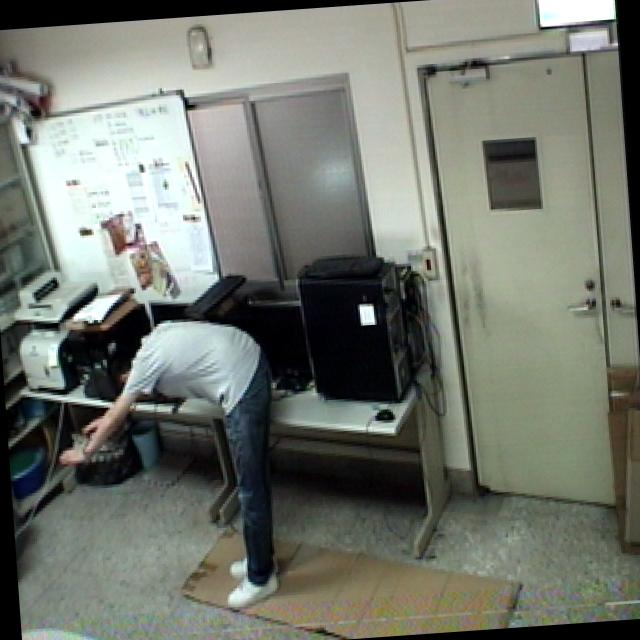bend: (42, 304, 295, 634)
